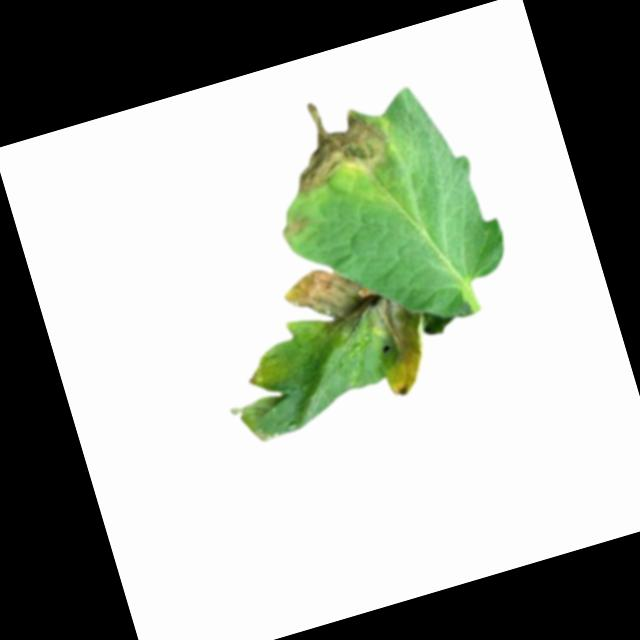Late_blight: (279, 236, 460, 420), (274, 79, 400, 198), (281, 210, 313, 238)
